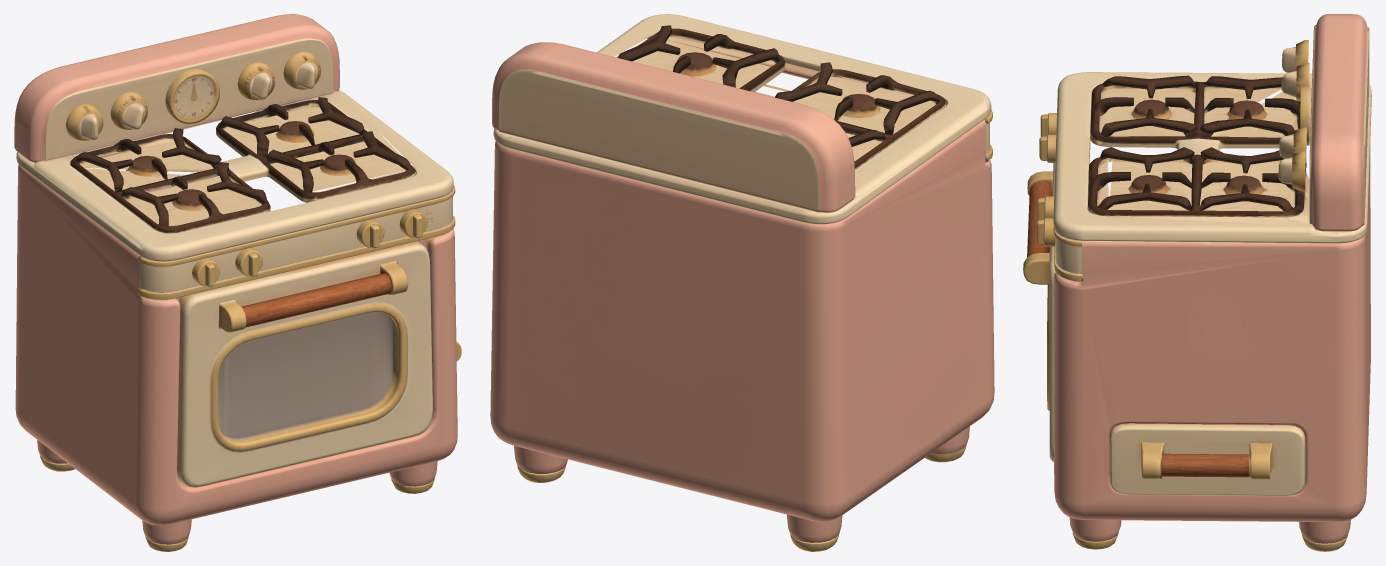
File: pink stove 3d model.glb
The picture shows the model from 3 angles, left to right: view 1: azimuth 30°, elevation 25°; view 2: azimuth 150°, elevation 25°; view 3: azimuth 270°, elevation 25°; orthographic projection. The views are drawn at different scales.
Parts seen in each view (by area): view 1: tripo_712c2738_b43c_4156_bc3a_a2d76d2d5f60; view 2: tripo_712c2738_b43c_4156_bc3a_a2d76d2d5f60; view 3: tripo_712c2738_b43c_4156_bc3a_a2d76d2d5f60.
Part boxes in pixels (left/top/right/bottom): tripo_712c2738_b43c_4156_bc3a_a2d76d2d5f60: left=14, top=14, right=461, bottom=551; tripo_712c2738_b43c_4156_bc3a_a2d76d2d5f60: left=490, top=14, right=994, bottom=551; tripo_712c2738_b43c_4156_bc3a_a2d76d2d5f60: left=1023, top=14, right=1371, bottom=551.
Size of the model in its own units: 0.9614 by 0.9995 by 0.7808.
1 material, 1 textured.
